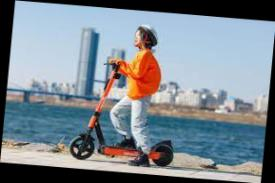helmet: (67, 18, 188, 170)
